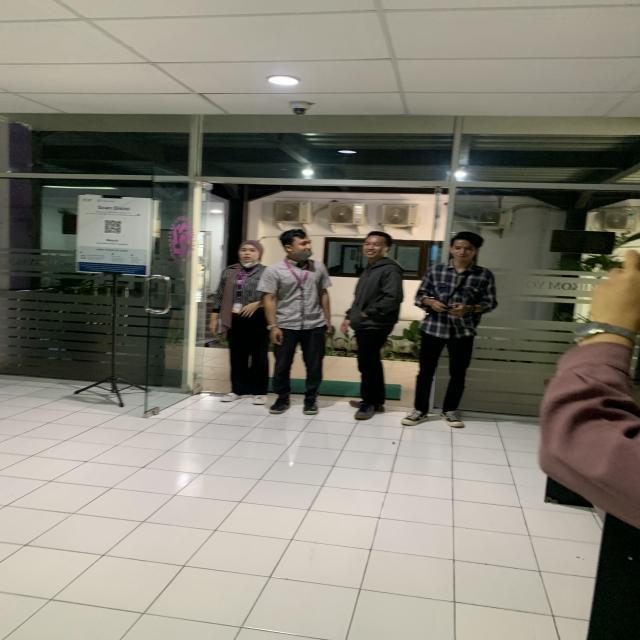hairnet: (280, 226, 315, 264), (233, 238, 265, 271)
